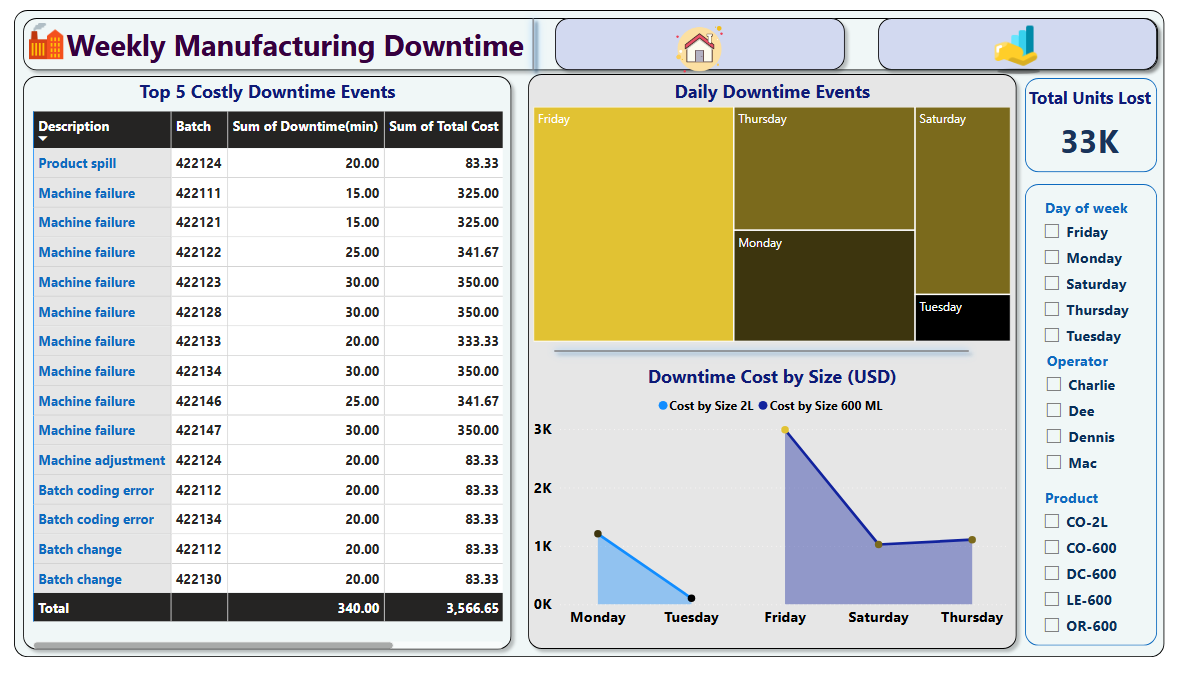

This screenshot's page, from the dashboard's own definition file:
{"tool":"powerbi","page":{"name":"Insights✨📊","canvas":[1280,720],"ordinal":2},"visuals":[{"type":"shape","box":[0,0,1278.5,719.2],"z":0},{"type":"shape","box":[1.5,0,1278.5,76.1],"z":1000},{"type":"shape","box":[591.8,0,340,75.7],"z":2000},{"type":"shape","box":[951.6,0,328.4,75.6],"z":3000},{"type":"shape","box":[1.5,63.9,560.8,655.3],"z":4000},{"type":"shape","box":[562.3,62.5,560.8,656.7],"z":5000},{"type":"shape","box":[1123.1,193.2,146.7,512.9],"z":6000},{"type":"slicer","title":"Day","fields":{"Values":["line-productivity.Day of week"]},"box":[1131.8,203.4,146.7,187.4],"z":7000},{"type":"slicer","fields":{"Values":["products.Product"]},"box":[1131.8,525.9,148.2,180.2],"z":8000},{"type":"treemap","title":"Daily Downtime Events","fields":{"Group":["line-productivity.Day of week"],"Values":["line-downtime.Daily Downtime Events"]},"box":[572.4,75.6,540.5,297.8],"z":9000},{"type":"slicer","fields":{"Values":["line-productivity.Operator"]},"box":[1134.7,373.4,145.3,152.6],"z":10000},{"type":"textbox","box":[35.8,11,675.8,96.3],"z":11000},{"type":"image","box":[607,5.5,309.7,75.7],"z":12000},{"type":"image","box":[963.3,0,306.6,75.6],"z":13000},{"type":"tableEx","title":"Top 5 Costly Downtime Events","fields":{"Values":["downtime-factors.Description","line-downtime.Batch","Sum(line-downtime.Downtime(min))","Sum(line-downtime.Total Cost)","Sum(line-downtime.Revenue Lost)"]},"box":[20.3,75.6,523,634.9],"z":14000},{"type":"areaChart","title":"Downtime Cost by Size (USD)","fields":{"Category":["line-productivity.Day of week"],"Y":["line-downtime.Cost by Size 2L","line-downtime.Cost by Size 600 ML"]},"box":[572.4,392.3,540.5,303.7],"z":15000},{"type":"shape","box":[1123.1,75.6,146.7,104.6],"z":16000},{"type":"card","title":"Total Units Lost","fields":{"Values":["line-downtime.Total Units Lost"]},"box":[1121.6,84.3,148.2,95.9],"z":17000},{"type":"shape","box":[591.3,360.3,479.5,37.8],"z":18000},{"type":"shape","box":[546.4,0,60.6,75.7],"z":19000},{"type":"image","box":[6.9,5.5,57.8,57.8],"z":20000}]}

Visuals, with their boxes in screenshot pixels (x1, y1, x2, y2), scaled from the page's 1280x720 canvas onto the 1184x673 screenshot:
shape: rect(0, 0, 1183, 672)
shape: rect(1, 0, 1183, 71)
shape: rect(547, 0, 862, 71)
shape: rect(880, 0, 1183, 71)
shape: rect(1, 60, 520, 672)
shape: rect(520, 58, 1039, 672)
shape: rect(1039, 181, 1175, 660)
"Day" slicer: rect(1047, 190, 1183, 365)
slicer - products.Product: rect(1047, 492, 1183, 660)
"Daily Downtime Events" treemap: rect(529, 71, 1029, 349)
slicer - line-productivity.Operator: rect(1050, 349, 1183, 492)
textbox: rect(33, 10, 658, 100)
image: rect(561, 5, 848, 76)
image: rect(891, 0, 1175, 71)
"Top 5 Costly Downtime Events" tableEx: rect(19, 71, 503, 664)
"Downtime Cost by Size (USD)" areaChart: rect(529, 367, 1029, 651)
shape: rect(1039, 71, 1175, 168)
"Total Units Lost" card: rect(1037, 79, 1175, 168)
shape: rect(547, 337, 990, 372)
shape: rect(505, 0, 561, 71)
image: rect(6, 5, 60, 59)
